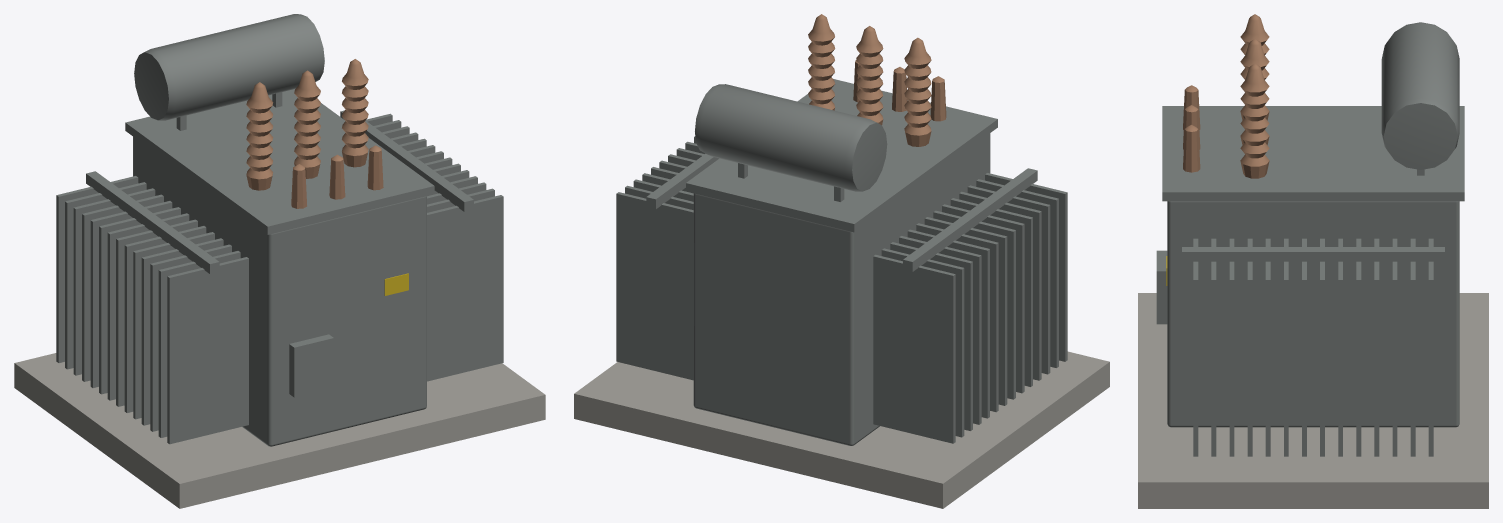
Rendered from energy.substation.transformer_ground.glb.
The picture shows the model from 3 angles, left to right: view 1: azimuth 30°, elevation 25°; view 2: azimuth 150°, elevation 25°; view 3: azimuth 270°, elevation 25°; orthographic projection. The views are drawn at different scales.
Parts seen in each view (by area): view 1: main__enamel_787, main__concrete_a99, main__glaze_a76; view 2: main__enamel_787, main__concrete_a99, main__glaze_a76; view 3: main__enamel_787, main__concrete_a99, main__glaze_a76.
Part boxes in pixels (x1,y1,x2,y2): main__enamel_787: (56, 14, 503, 446); main__concrete_a99: (14, 353, 545, 508); main__glaze_a76: (246, 59, 383, 208); main__enamel_787: (616, 79, 1067, 445); main__concrete_a99: (574, 351, 1109, 508); main__glaze_a76: (808, 14, 946, 146); main__enamel_787: (1156, 22, 1464, 456); main__concrete_a99: (1138, 293, 1488, 508); main__glaze_a76: (1183, 14, 1269, 178).
Size of the model in its own units: 4.6 by 4.25 by 3.6.
